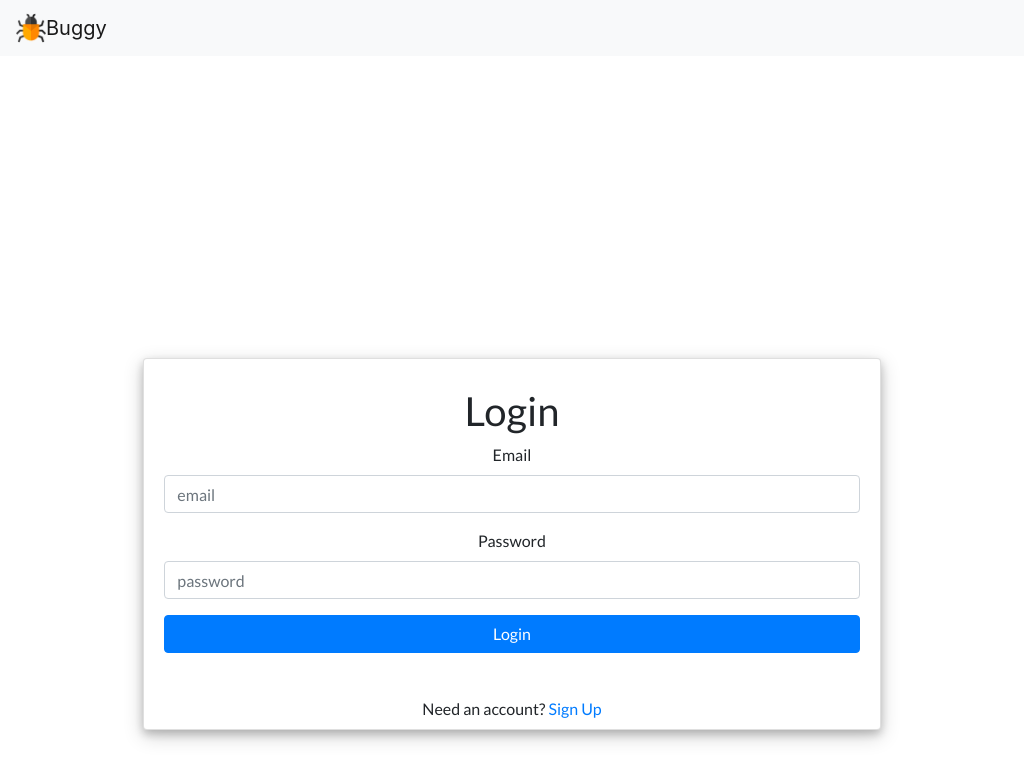
Scenario: renders the login page › returns error if wrong email
Type "random user" into the field with placeholder "email" at (512, 494), box [164,475,859,513]
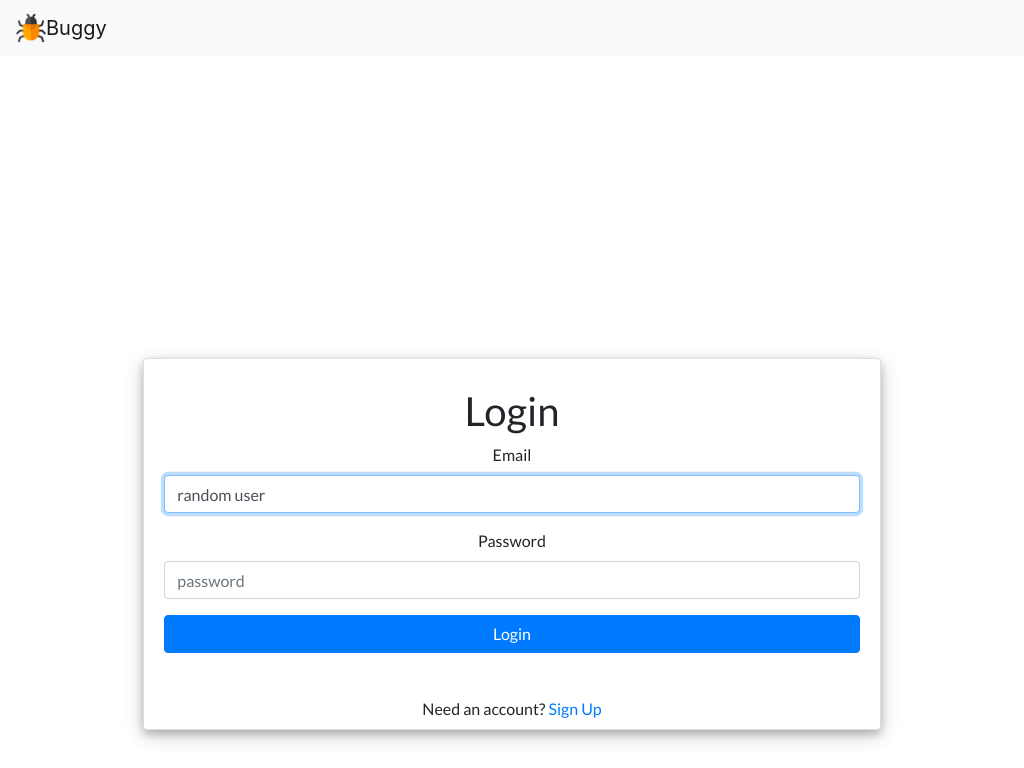
Type "randompassword" into the password field with placeholder "password" at (512, 580), box [164,561,859,599]
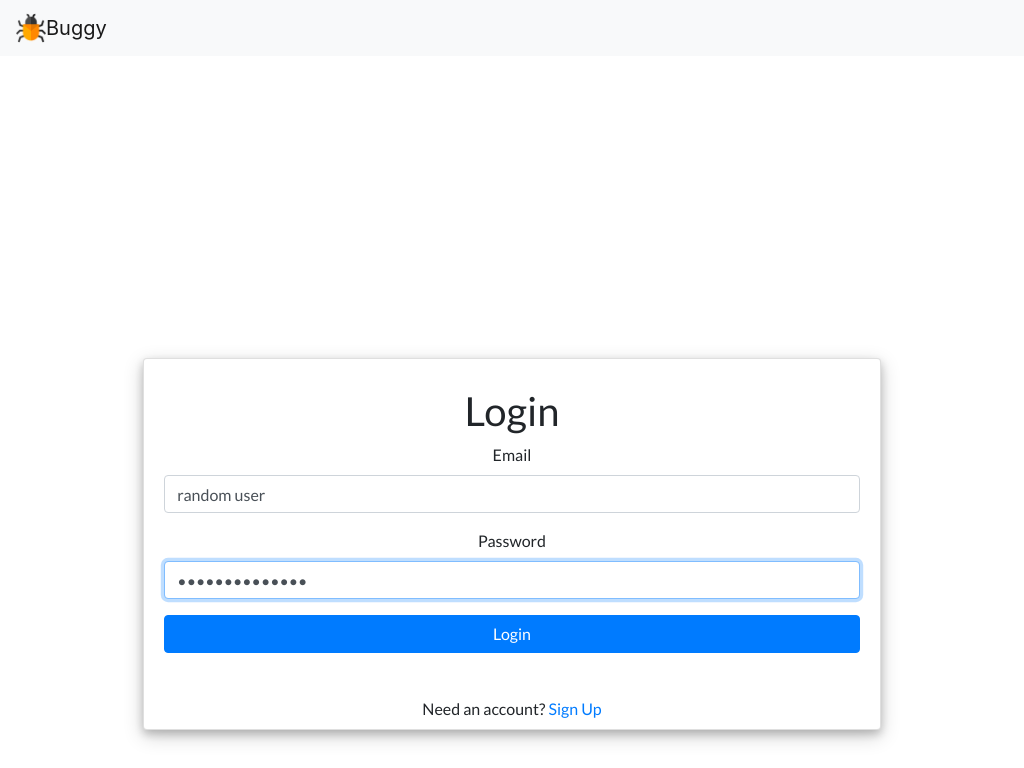
Click the button "Login" at (512, 634), box [164,615,859,653]
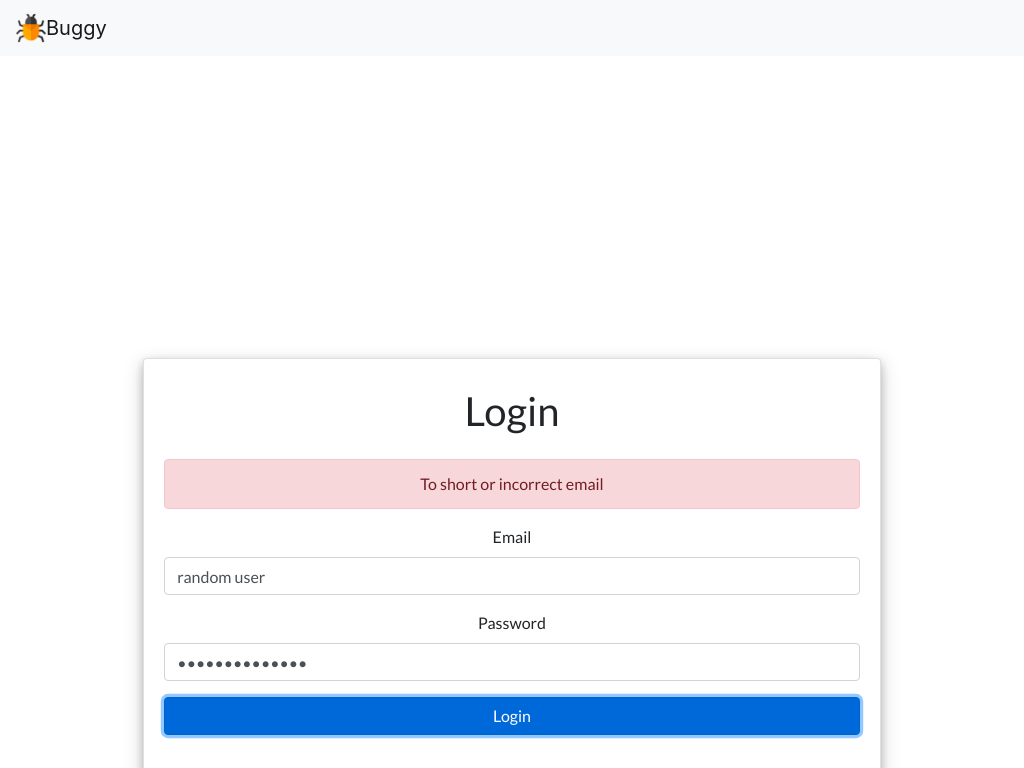
Expected: the text "To short or incorrect email" is shown, [164,459,860,509]
